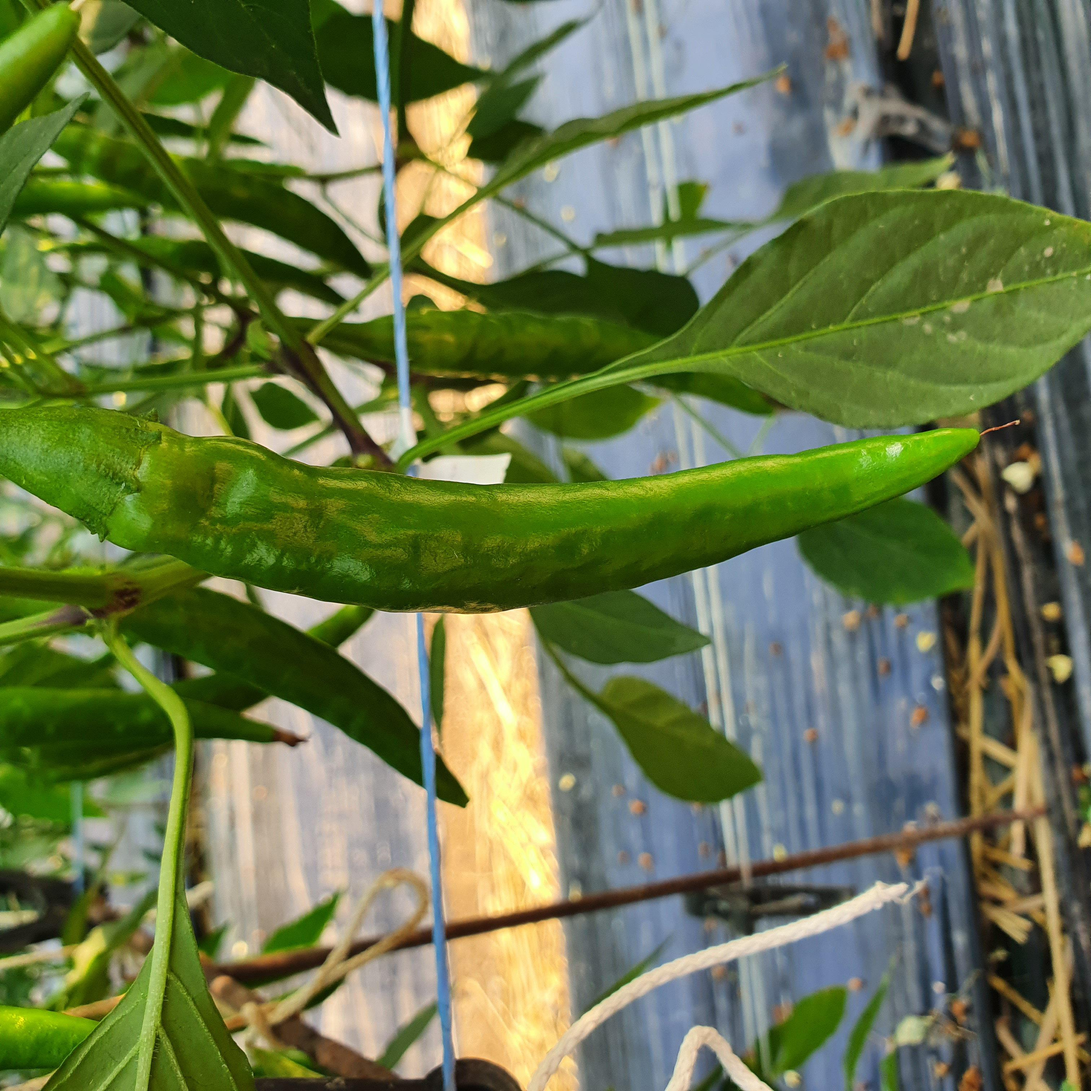Buah Cabai Sehat: (2, 394, 991, 617)
Daun Cabai Sehat: (628, 187, 1091, 428)
